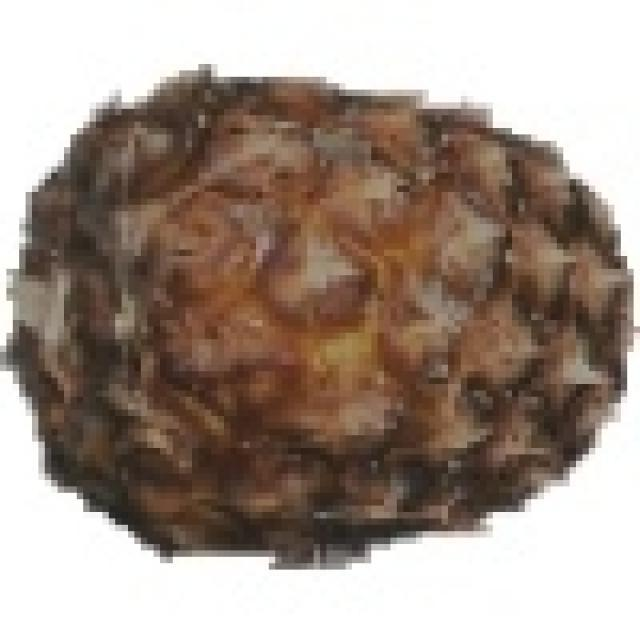pineapple: (26, 64, 640, 550)
